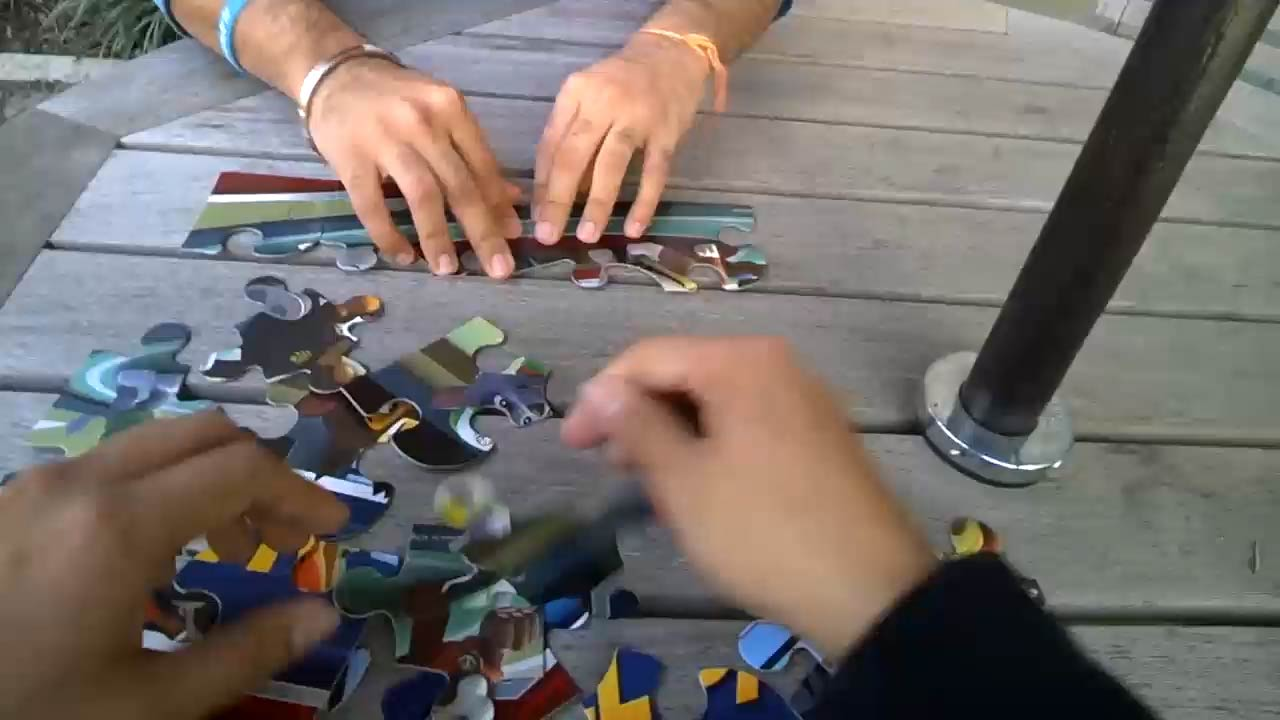hand: (562, 334, 945, 673), (0, 412, 354, 715), (309, 64, 526, 276), (530, 24, 710, 247)
